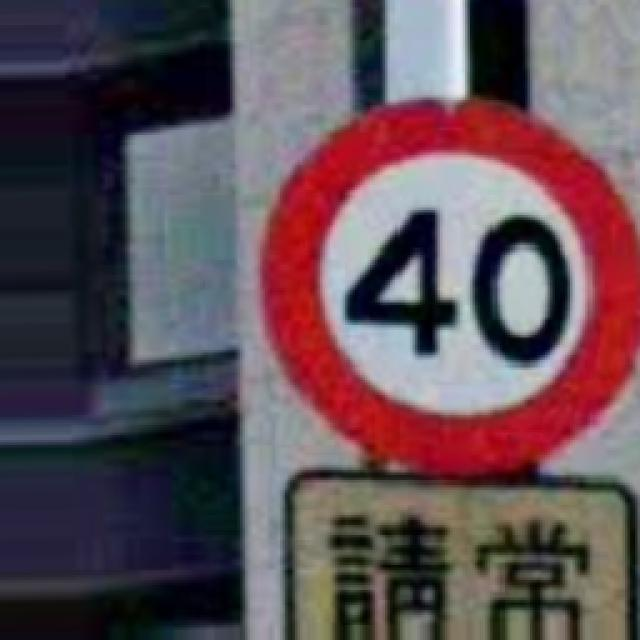Speed Limit -40-: (260, 100, 638, 472)
